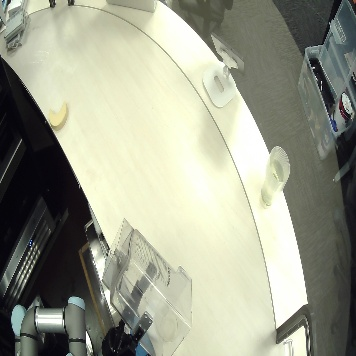empty_cup: (258, 143, 289, 211), (154, 297, 187, 348)
puck: (45, 102, 72, 130)
